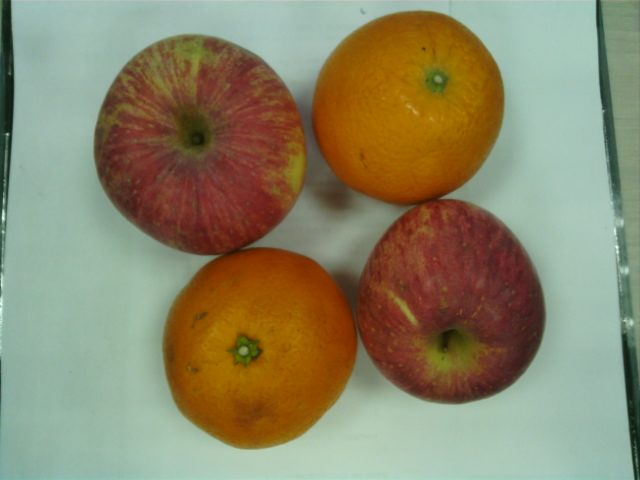normal_apple: (95, 34, 305, 255), (357, 200, 547, 404)
normal_orange: (163, 247, 357, 451), (312, 12, 506, 204)
